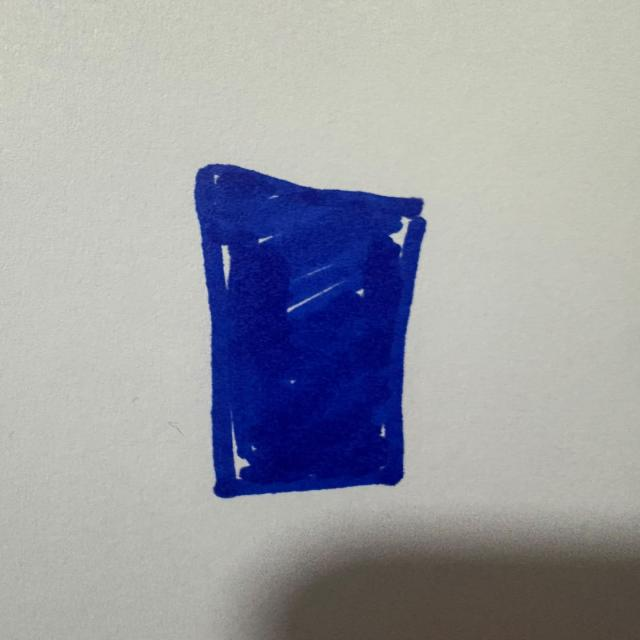Rectangle: (194, 164, 426, 499)
